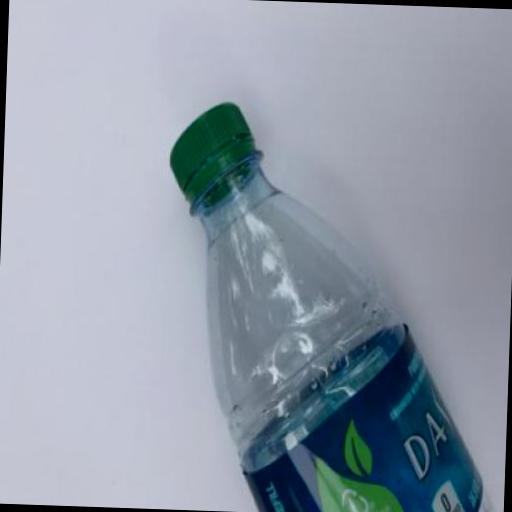plastic: (156, 97, 510, 512), (238, 317, 487, 512), (166, 100, 262, 214)
